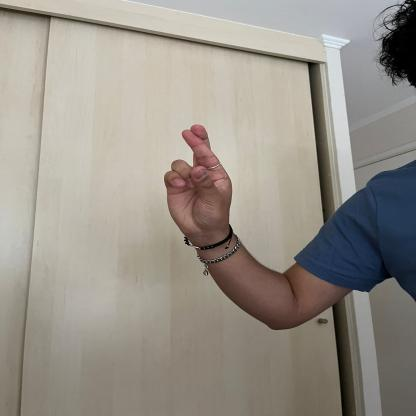R: (160, 123, 233, 239)
